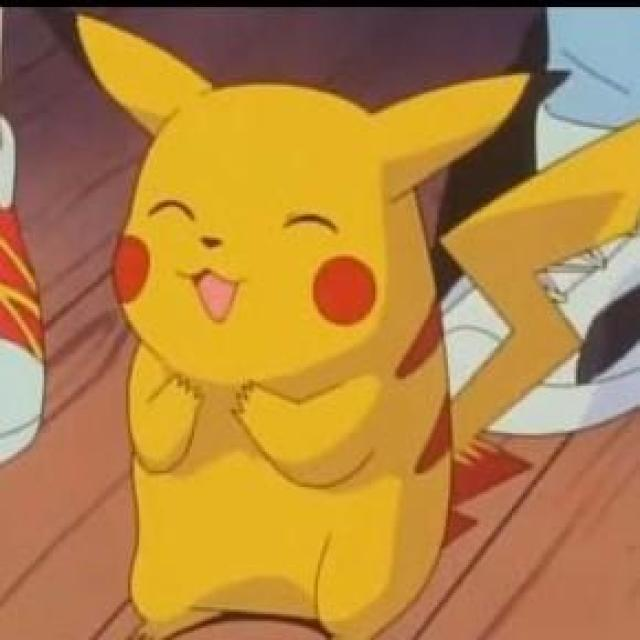pikachu: (43, 5, 639, 640)
